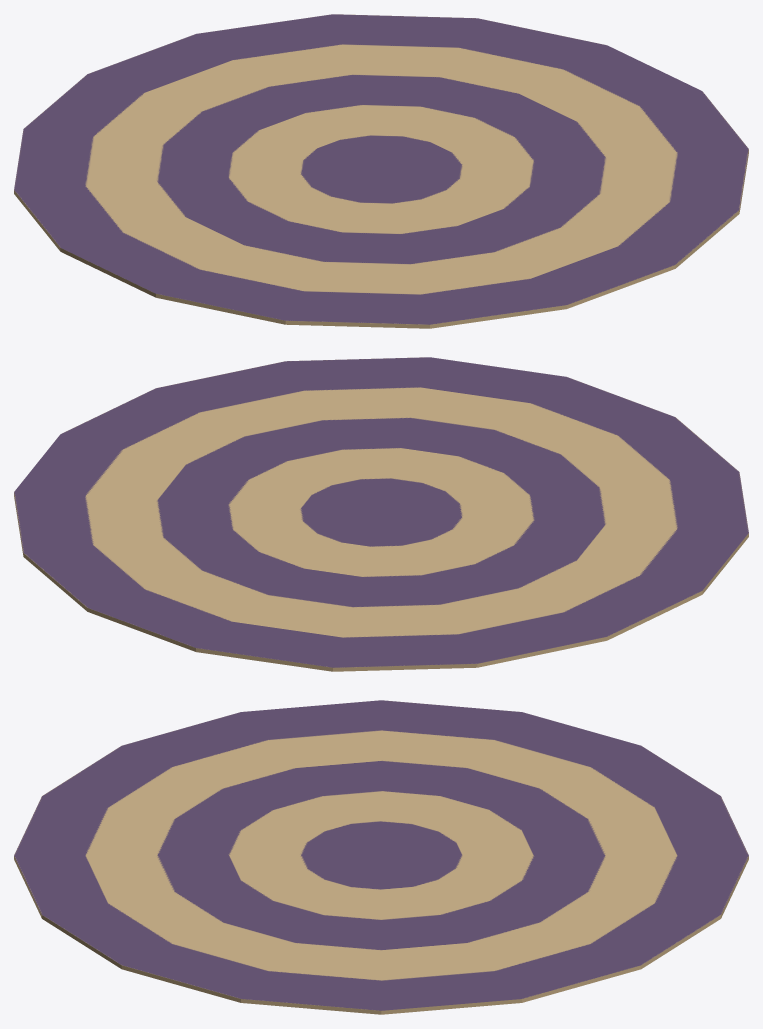
The model's file is RoundCarpet.fbx.
3 renders of one model, top to bottom at view 1: azimuth 30°, elevation 25°; view 2: azimuth 150°, elevation 25°; view 3: azimuth 270°, elevation 25°, orthographic.
Parts seen in each view (by area): view 1: Carpet; view 2: Carpet; view 3: Carpet.
Boxes of the visible parts, x1,y1,x2,y2 form: Carpet: (14, 14, 748, 328); Carpet: (14, 357, 748, 671); Carpet: (14, 700, 748, 1014).
Size of the model in its own units: 498 by 498 by 2.94.
